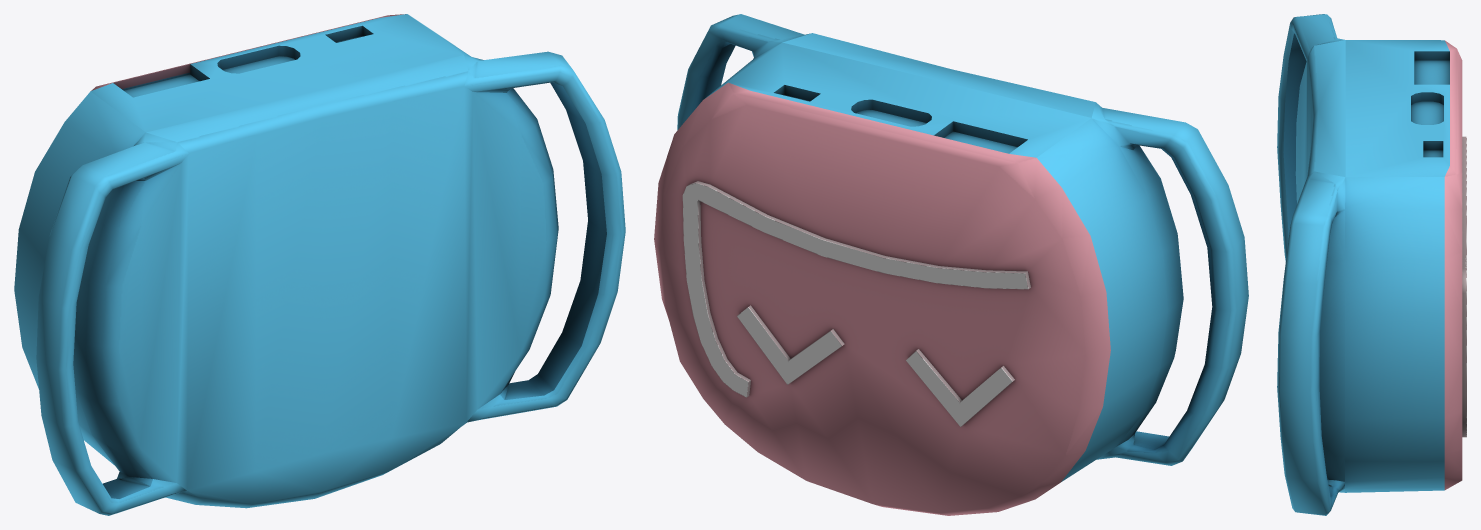
File: trans_slime.obj
3 views of the same model, side by side, from view 1: azimuth 30°, elevation 25°; view 2: azimuth 150°, elevation 25°; view 3: azimuth 270°, elevation 25° (orthographic). The views are drawn at different scales.
Parts seen in each view (by area): view 1: trans_slime; view 2: trans_slime; view 3: trans_slime.
Part boxes in pixels (box(x1,y1,x2,y2)): trans_slime: box(14, 14, 625, 515); trans_slime: box(654, 14, 1248, 515); trans_slime: box(1277, 14, 1466, 515).
Size of the model in its own units: 0.0778 by 0.0515 by 0.025.
Materials: 1 (1 with a texture image).
